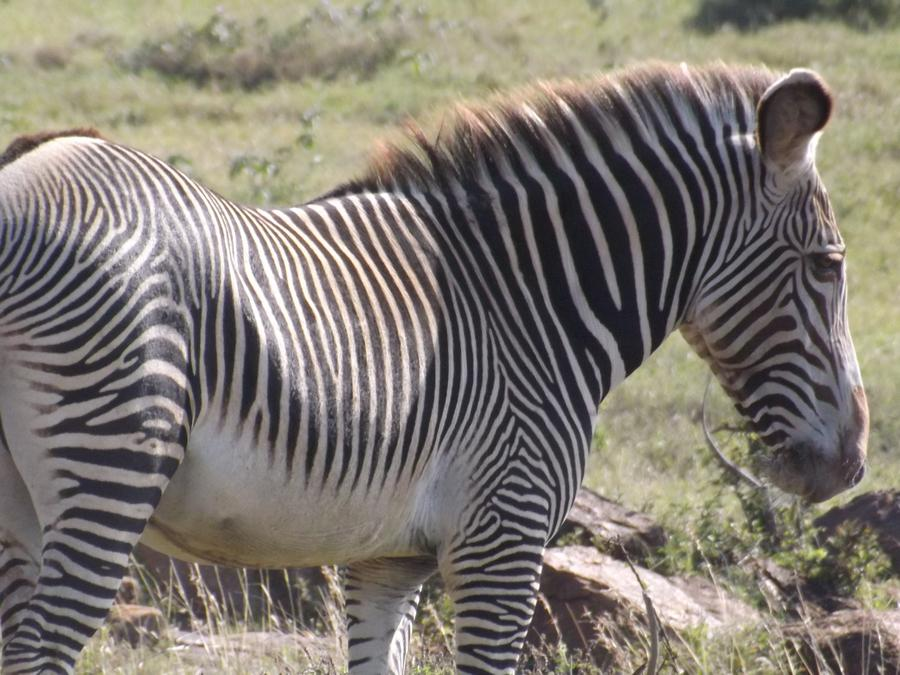zebra_grevys: (4, 116, 557, 557)
